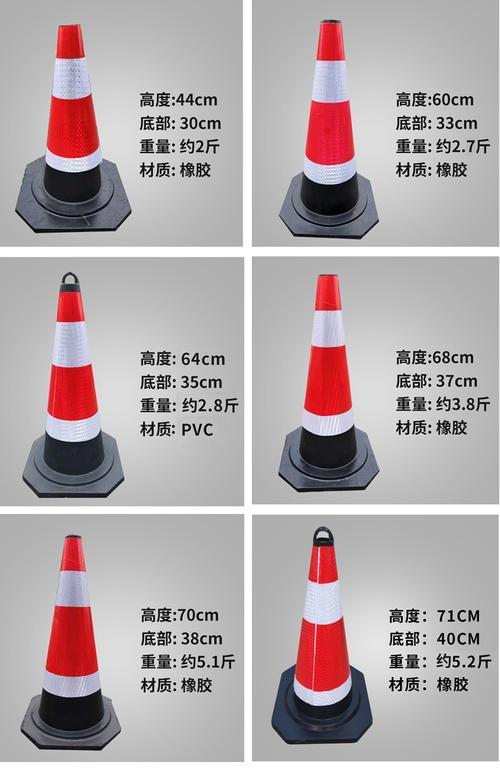cone_barrel: (20, 276, 119, 493), (271, 530, 369, 735), (21, 538, 118, 744), (279, 24, 374, 230), (280, 281, 373, 484), (23, 28, 114, 219)
